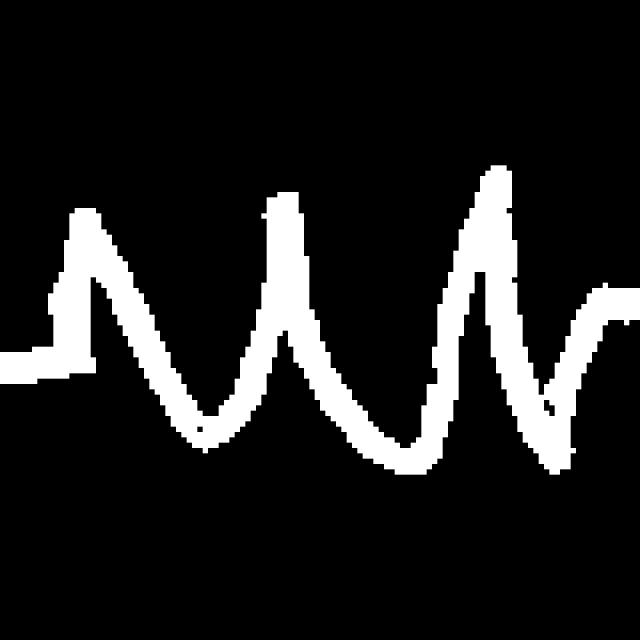resistor: (39, 150, 599, 496)
